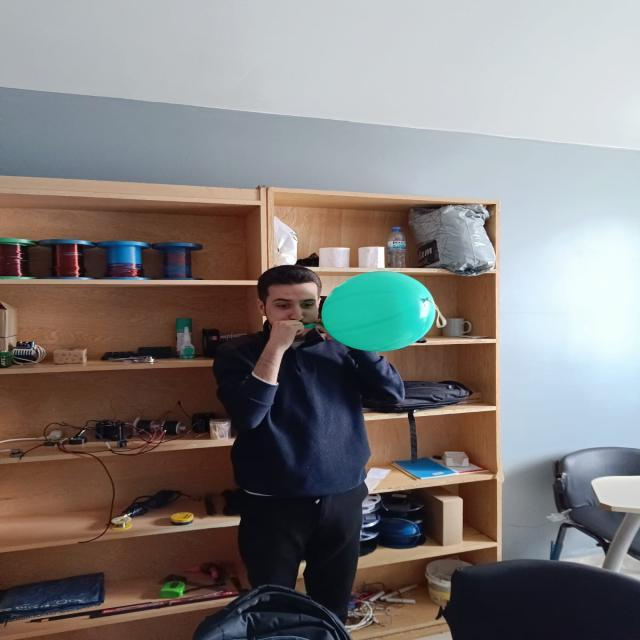balloon: (324, 271, 435, 353)
